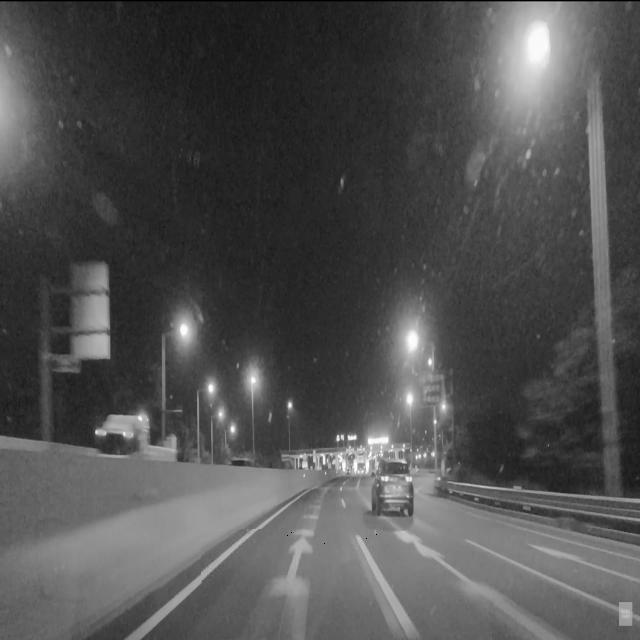forward: (202, 530, 387, 582)
